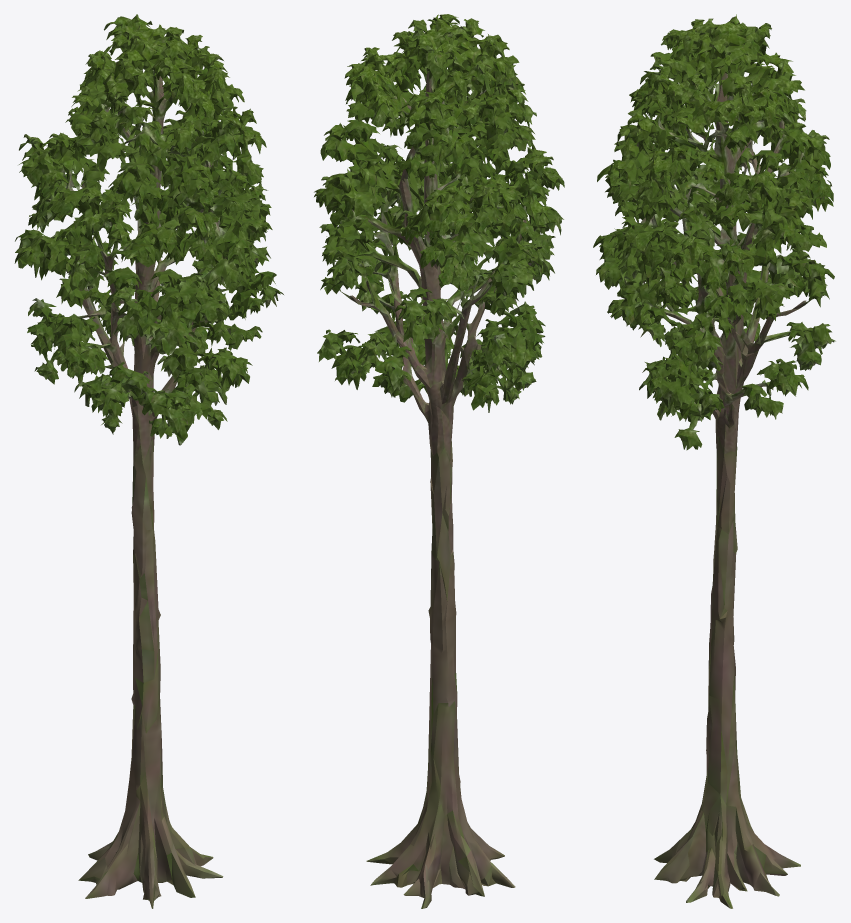
Rendered from e4takhian.glb.
3 views of the same model, side by side, from view 1: azimuth 30°, elevation 25°; view 2: azimuth 150°, elevation 25°; view 3: azimuth 270°, elevation 25° (orthographic).
Parts seen in each view (by area): view 1: output_unwrapped; view 2: output_unwrapped; view 3: output_unwrapped.
Part boxes in pixels (<box>): output_unwrapped: <box>14,14,283,908</box>; output_unwrapped: <box>314,14,564,908</box>; output_unwrapped: <box>593,14,835,908</box>.
Bounding box in the file's own units: 0.2731 × 1 × 0.2585.
Materials: 1 (1 with a texture image).
